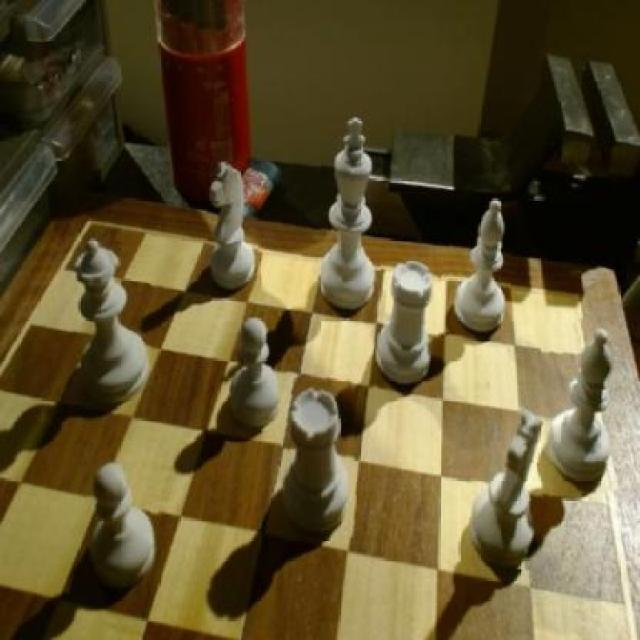black-rook: (541, 318, 617, 496), (449, 194, 512, 339)
white-bishop: (318, 108, 382, 313)
white-king: (469, 409, 545, 569), (209, 160, 262, 296)
white-knight: (85, 462, 159, 586), (228, 313, 287, 432)
white-pawn: (74, 235, 152, 410)
white-queen: (280, 376, 357, 542), (376, 257, 442, 393)
